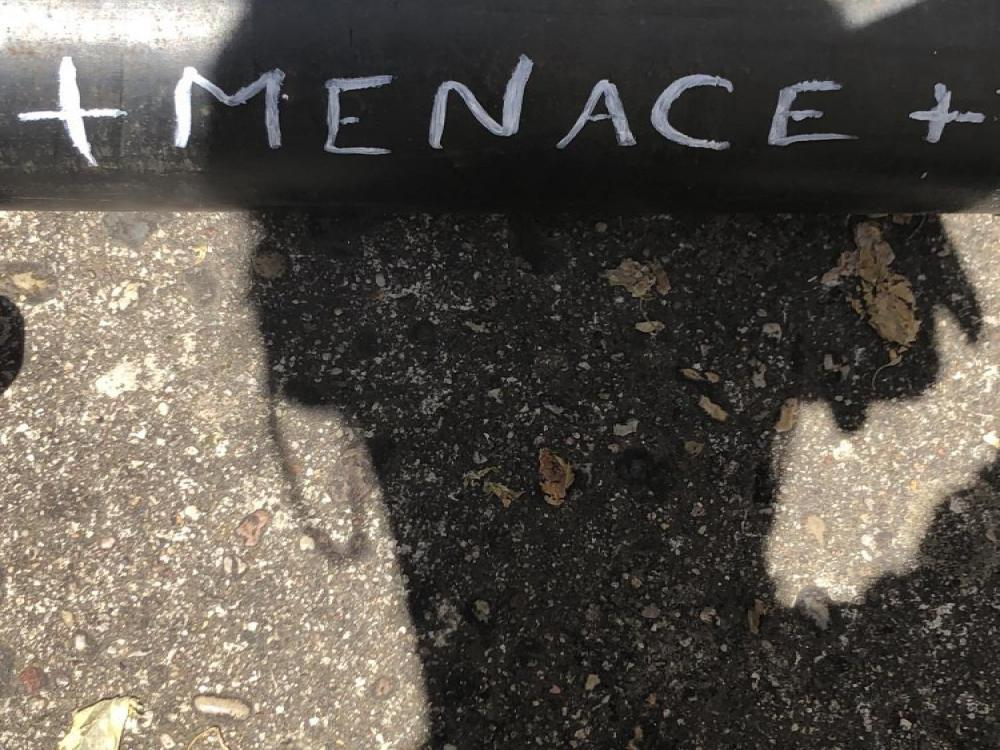+: (776, 13, 928, 98), (808, 680, 893, 740)
A: (799, 414, 901, 480)
C: (798, 487, 905, 550)
E: (803, 574, 897, 645), (791, 242, 906, 296)
M: (798, 127, 915, 216)
N: (798, 318, 933, 404)
